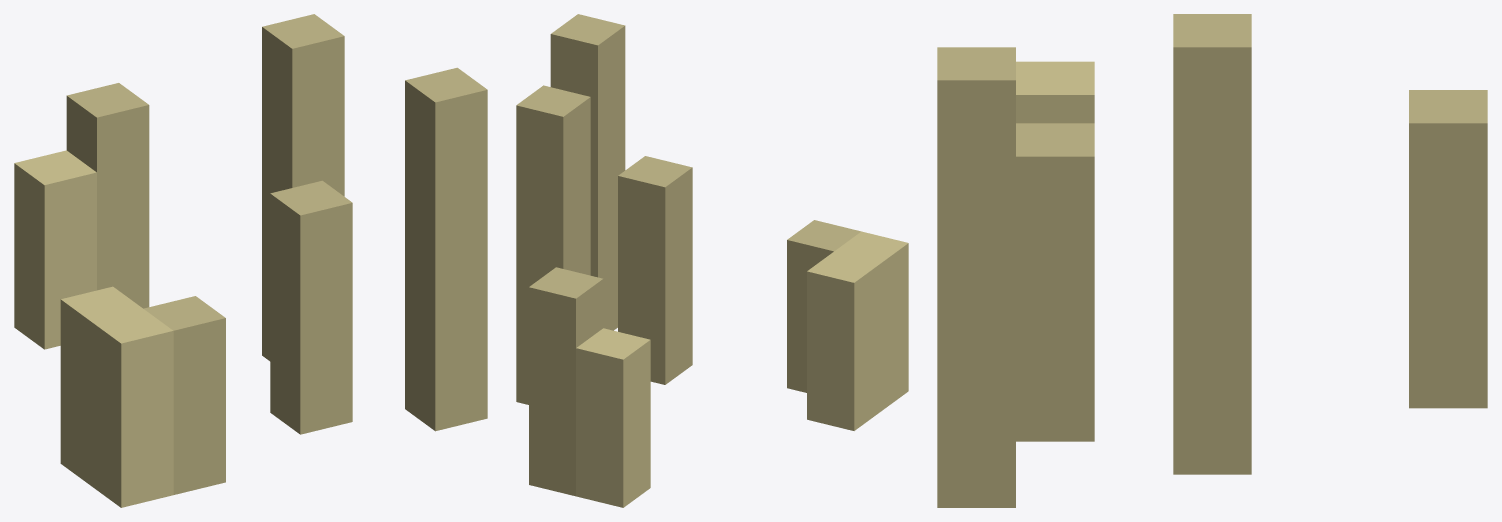
Rendered from esparto_05.glb.
3 renders of one model, left to right at view 1: azimuth 30°, elevation 25°; view 2: azimuth 150°, elevation 25°; view 3: azimuth 270°, elevation 25°, orthographic. The views are drawn at different scales.
Parts seen in each view (by area): view 1: esparto_05; view 2: esparto_05; view 3: esparto_05.
Boxes of the visible parts, <box> form: esparto_05: <box>14,14,487,507</box>; esparto_05: <box>516,14,908,507</box>; esparto_05: <box>937,14,1487,507</box>.
Bounding box in the file's own units: 0.7 × 0.6 × 0.7.
